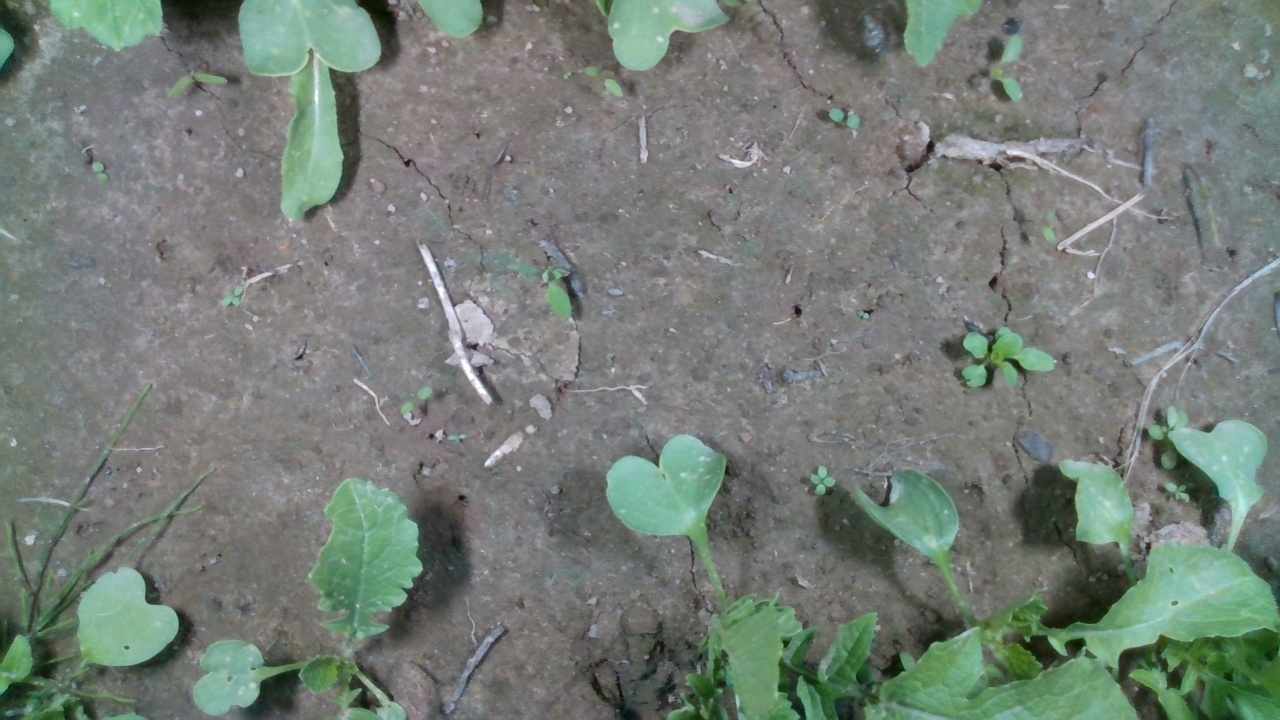weed: (502, 262, 576, 324), (987, 30, 1025, 104), (165, 69, 228, 100), (582, 64, 624, 99), (396, 384, 434, 415), (807, 462, 836, 498), (825, 107, 861, 132), (1162, 480, 1192, 507), (218, 283, 244, 310), (90, 160, 110, 186)
